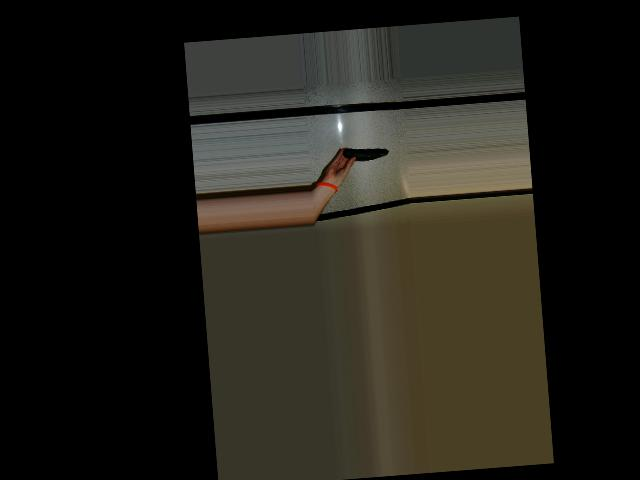cucumber: (342, 144, 389, 161)
